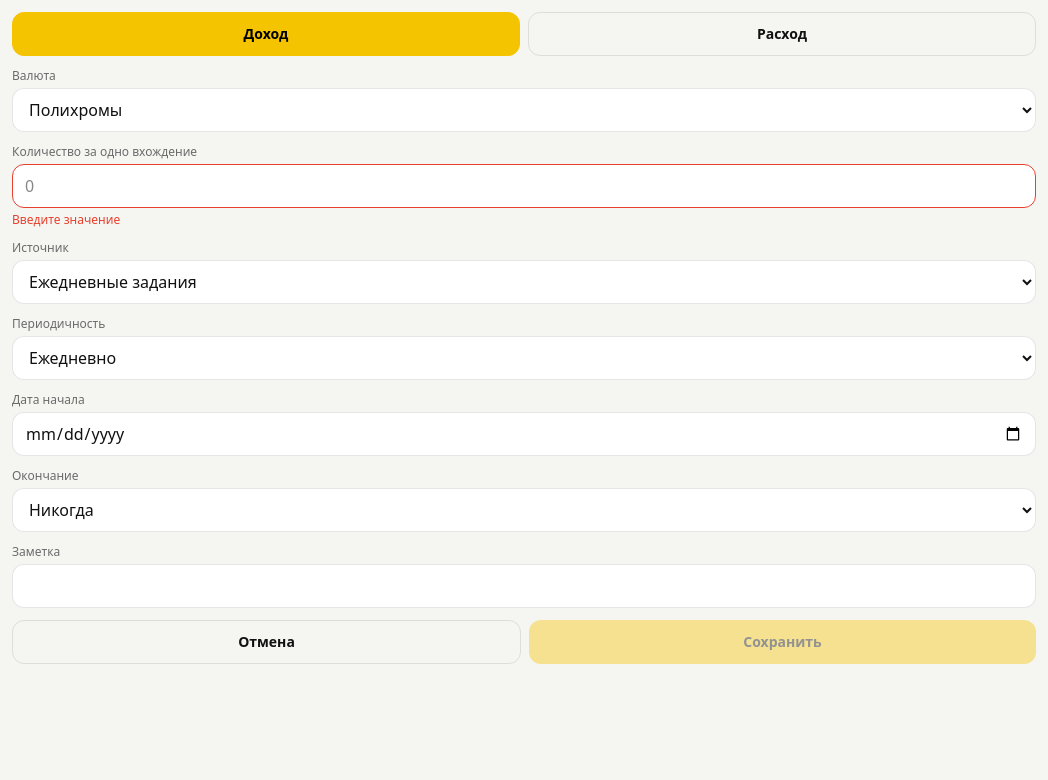
Test: SeriesForm › create mode › shows the day-of-month field only for MONTHLY frequency
Select "Ежемесячно" in the dropdown labelled "Периодичность" at point(524, 358), box top-left (12, 336), bottom-right (1036, 380)
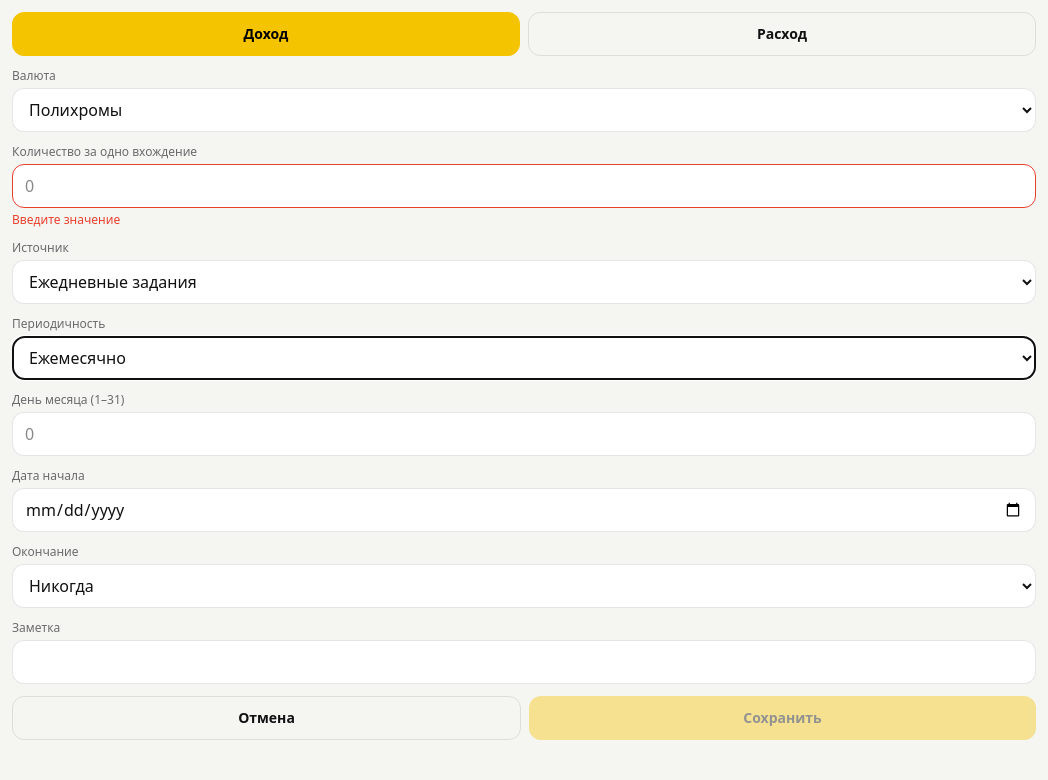
expect the field labelled "День месяца (1–31)" is shown: met, box top-left (12, 412), bottom-right (1036, 456)
